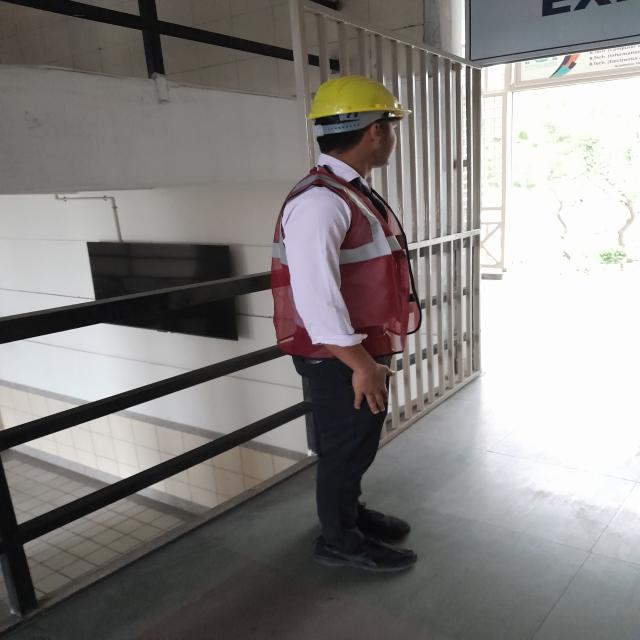safe: (272, 76, 422, 571)
